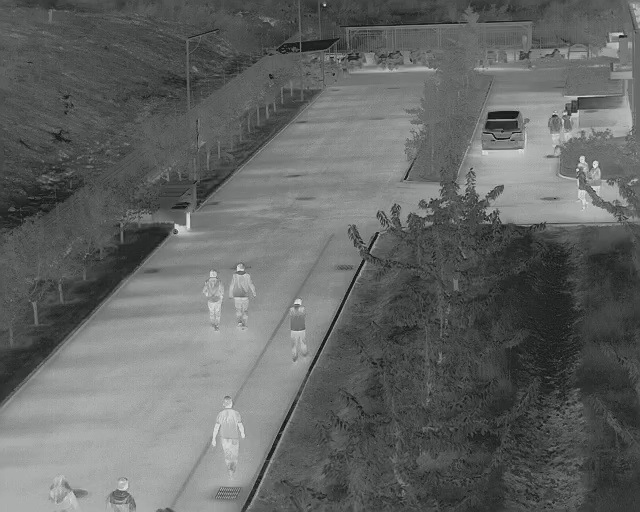person: (210, 396, 246, 481), (227, 263, 257, 333), (287, 297, 311, 365), (201, 268, 225, 334), (546, 109, 563, 153), (574, 166, 590, 212), (588, 159, 602, 192), (560, 108, 574, 141)
vehicle: (480, 109, 531, 158)
